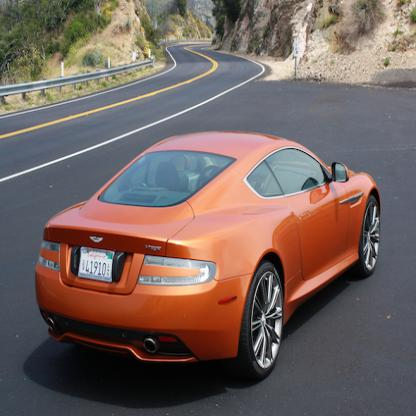Vehicle: (34, 132, 383, 376)
